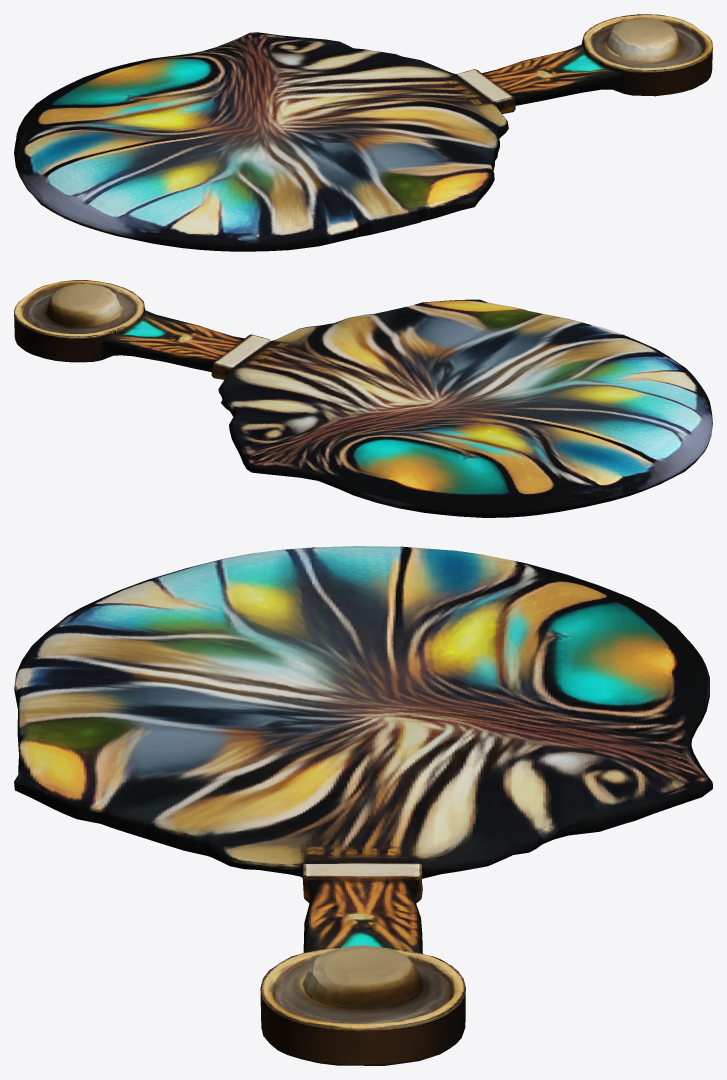
File: shell-inlaid-bookmark-art-deco.jpeg.glb
3 views of the same model, one above another, from view 1: azimuth 30°, elevation 25°; view 2: azimuth 150°, elevation 25°; view 3: azimuth 270°, elevation 25° (orthographic). The views are drawn at different scales.
Parts seen in each view (by area): view 1: world; view 2: world; view 3: world.
Boxes of the visible parts, left/top/right/bottom form: world: left=14, top=14, right=712, bottom=251; world: left=14, top=280, right=712, bottom=517; world: left=14, top=546, right=712, bottom=1065.
Bounding box in the file's own units: 1 × 0.0703 × 0.6004.
Materials: 1 (1 with a texture image).
